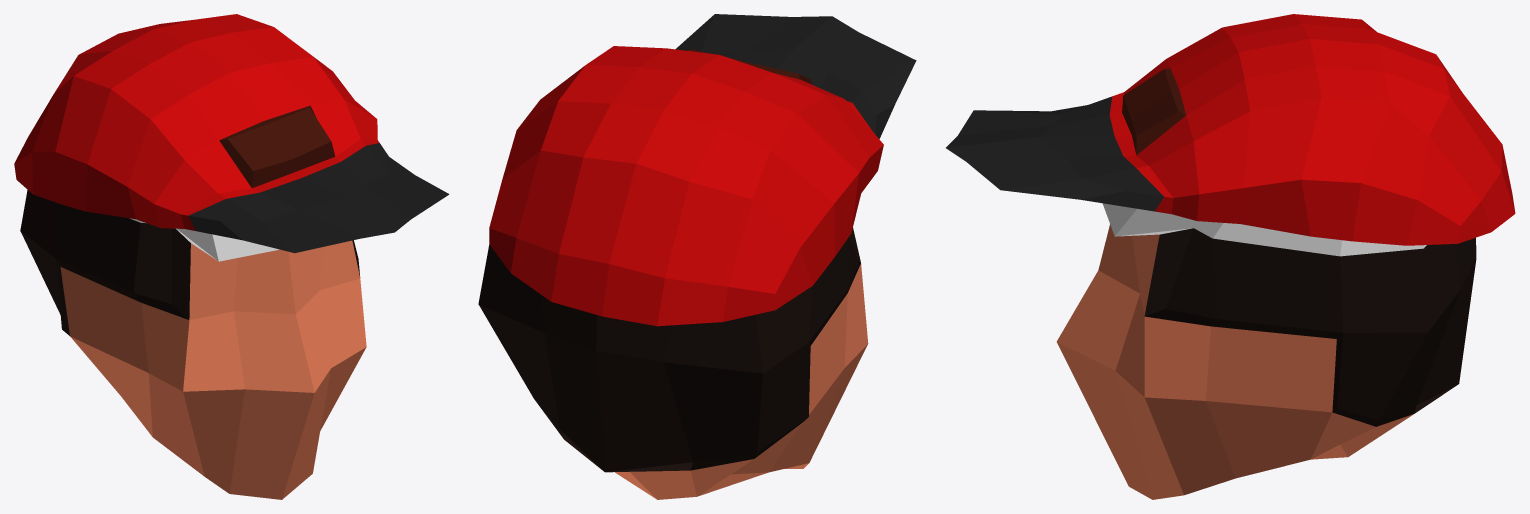
Rendered from myFace.obj.
3 views of the same model, side by side, from view 1: azimuth 30°, elevation 25°; view 2: azimuth 150°, elevation 25°; view 3: azimuth 270°, elevation 25° (orthographic). The views are drawn at different scales.
Parts seen in each view (by area): view 1: Cube.001, Cube; view 2: Cube.001, Cube; view 3: Cube, Cube.001.
Part boxes in pixels (<box>): Cube.001: <box>14,14,449,253</box>; Cube: <box>20,190,366,499</box>; Cube.001: <box>489,14,916,326</box>; Cube: <box>478,228,868,499</box>; Cube: <box>1056,203,1476,499</box>; Cube.001: <box>946,14,1515,245</box>.
Bounding box in the file's own units: 2.1 × 2.93 × 3.43.
